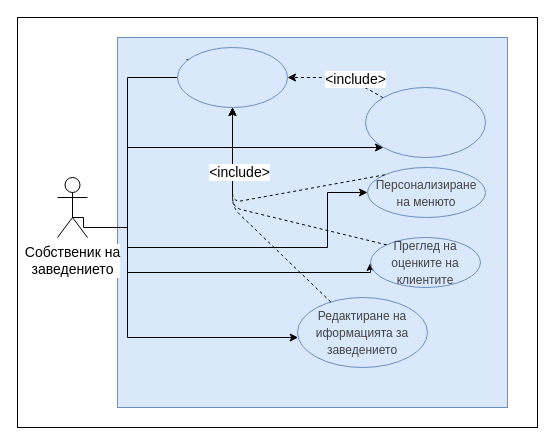
The diagram is 555 pixels wide and 445 high, and some of its shapes have lost their labels. The centre of each missing label's shape, as x and y in pixels:
Персонализиране на 4-символен код на персонала: [425,122]
Сканиране на QR код: [232,77]
